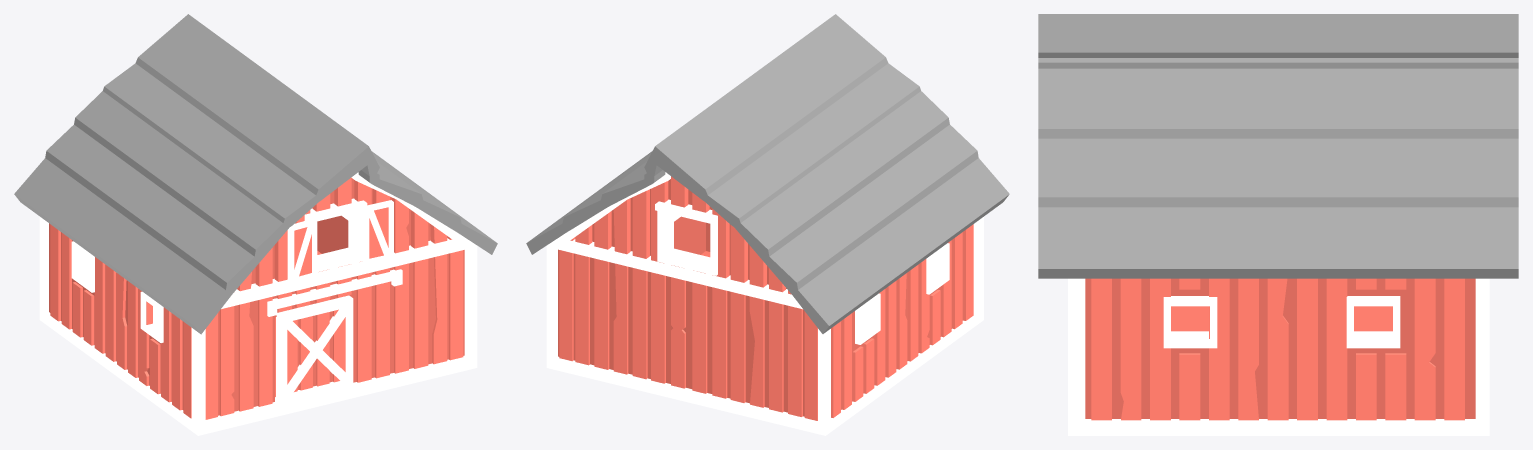
Rendered from SmallBarn.gltf.
3 renders of one model, left to right at view 1: azimuth 30°, elevation 25°; view 2: azimuth 150°, elevation 25°; view 3: azimuth 270°, elevation 25°, orthographic. The views are drawn at different scales.
Parts seen in each view (by area): view 1: Small_Barn, Small_Barn_Door, SmallBarn_Window, SmallBarn_Window2; view 2: Small_Barn; view 3: Small_Barn.
Boxes of the visible parts, x1,y1,x2,y2 form: Small_Barn: (14, 14, 497, 435); Small_Barn_Door: (276, 295, 353, 404); SmallBarn_Window: (362, 200, 393, 264); SmallBarn_Window2: (287, 218, 317, 283); Small_Barn: (526, 14, 1009, 435); Small_Barn: (1038, 14, 1518, 435).
Bounding box in the file's own units: 608 × 496 × 627.
